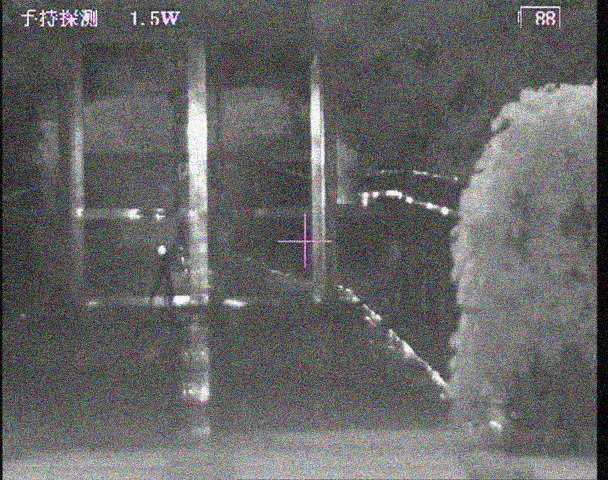my: (157, 245, 166, 255)
